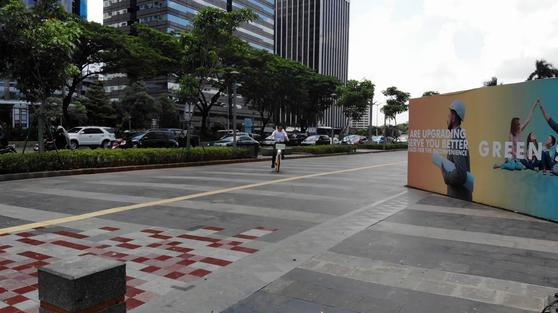bike: (265, 135, 292, 176)
